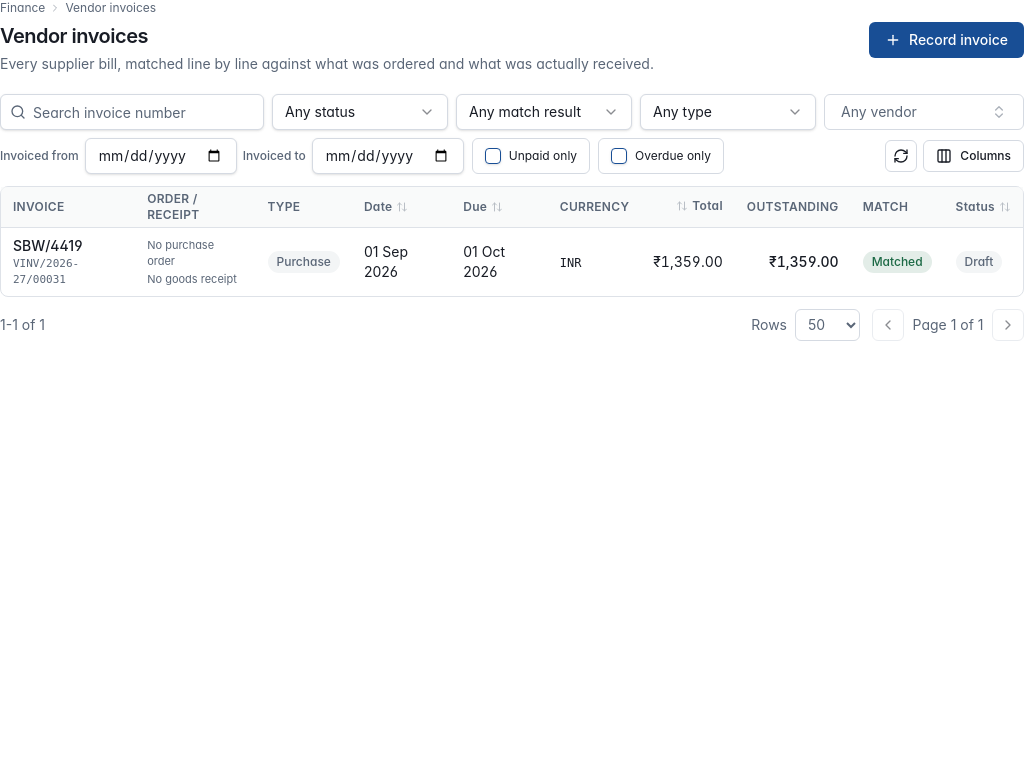
recording a bill and clearing it for payment › gives the recorder the document commands and never the approval
Click the button "SBW/4419": click(48, 246) [13,236,82,256]
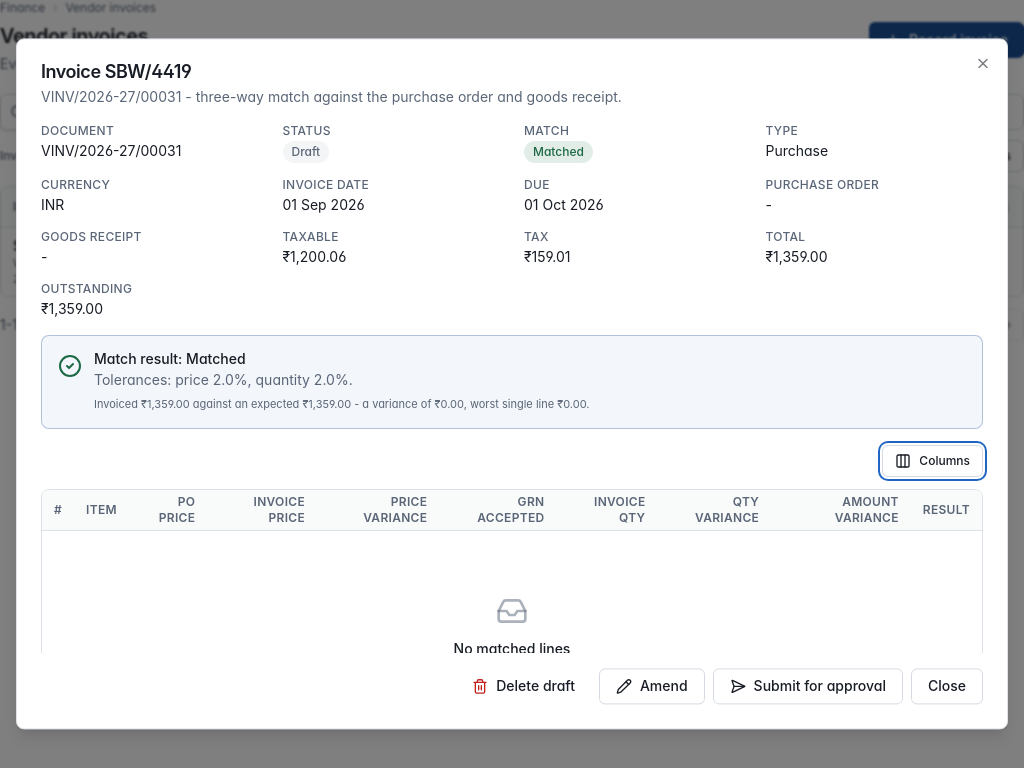
Result: the button "Amend" is shown at [599,669,705,705]
Result: the button "Submit for approval" is shown at [713,669,903,705]
Result: the button "Delete draft" is shown at [456,669,591,705]
